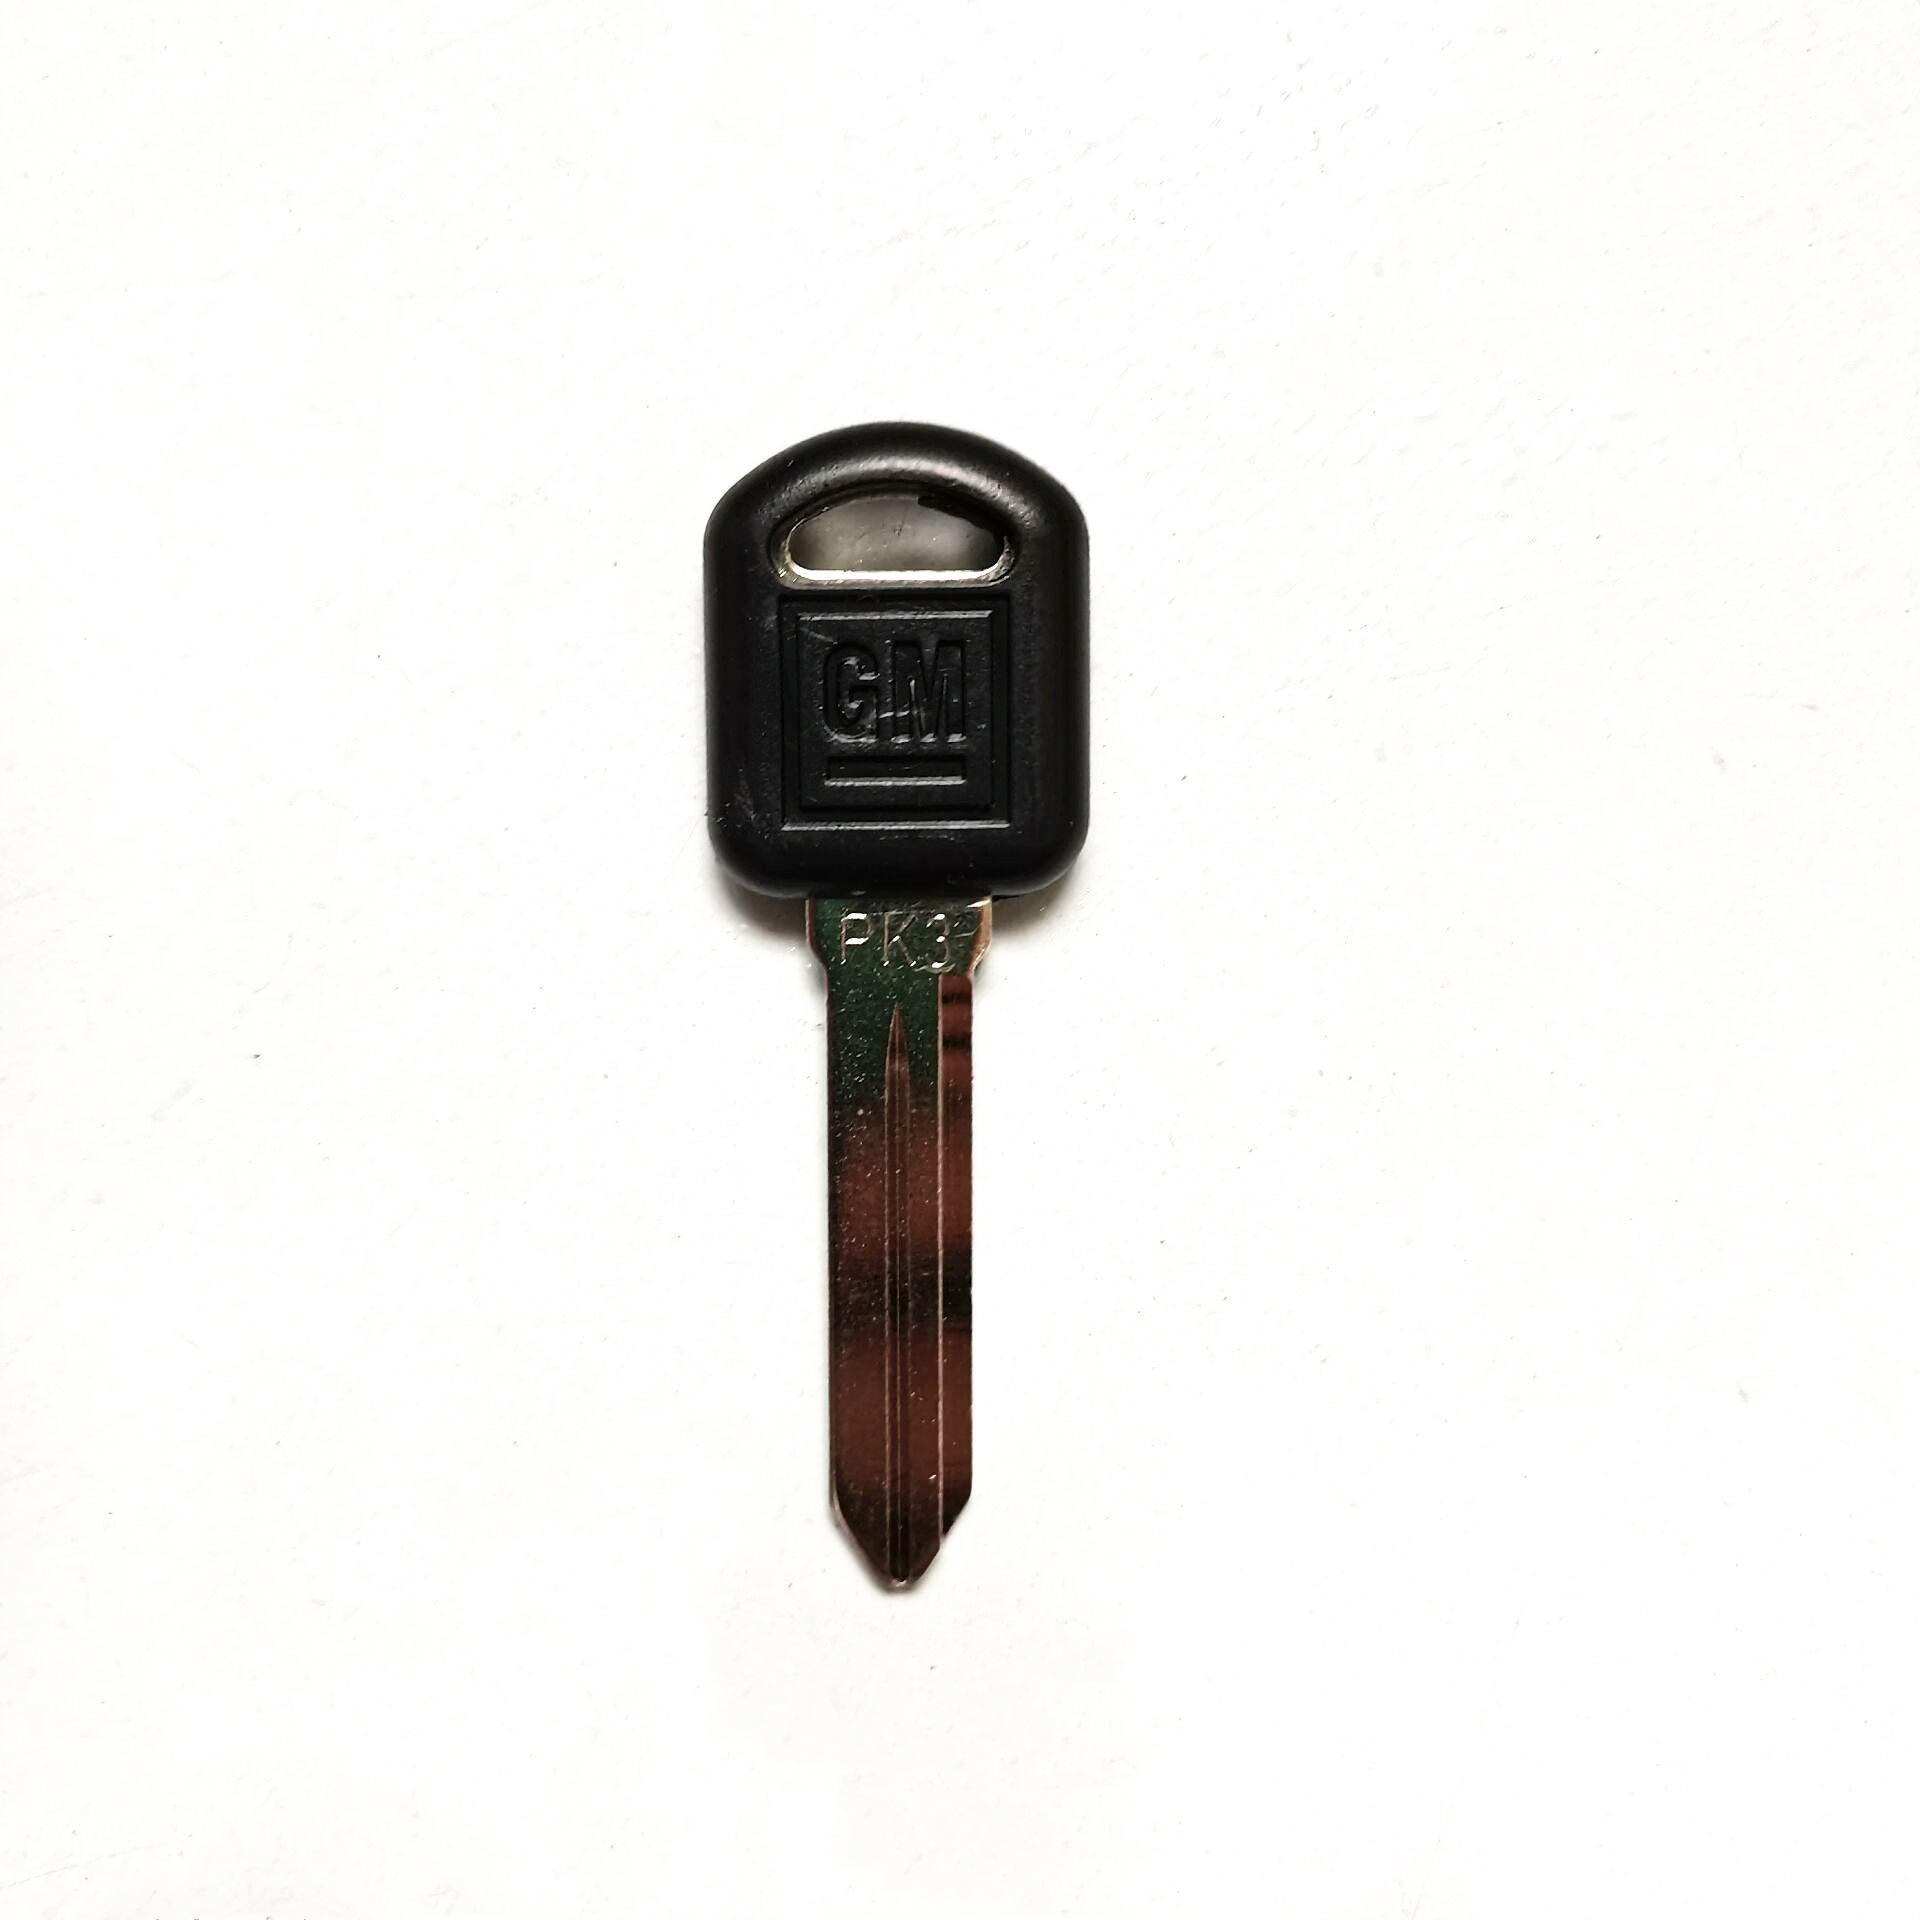key: (607, 366, 1175, 1646)
